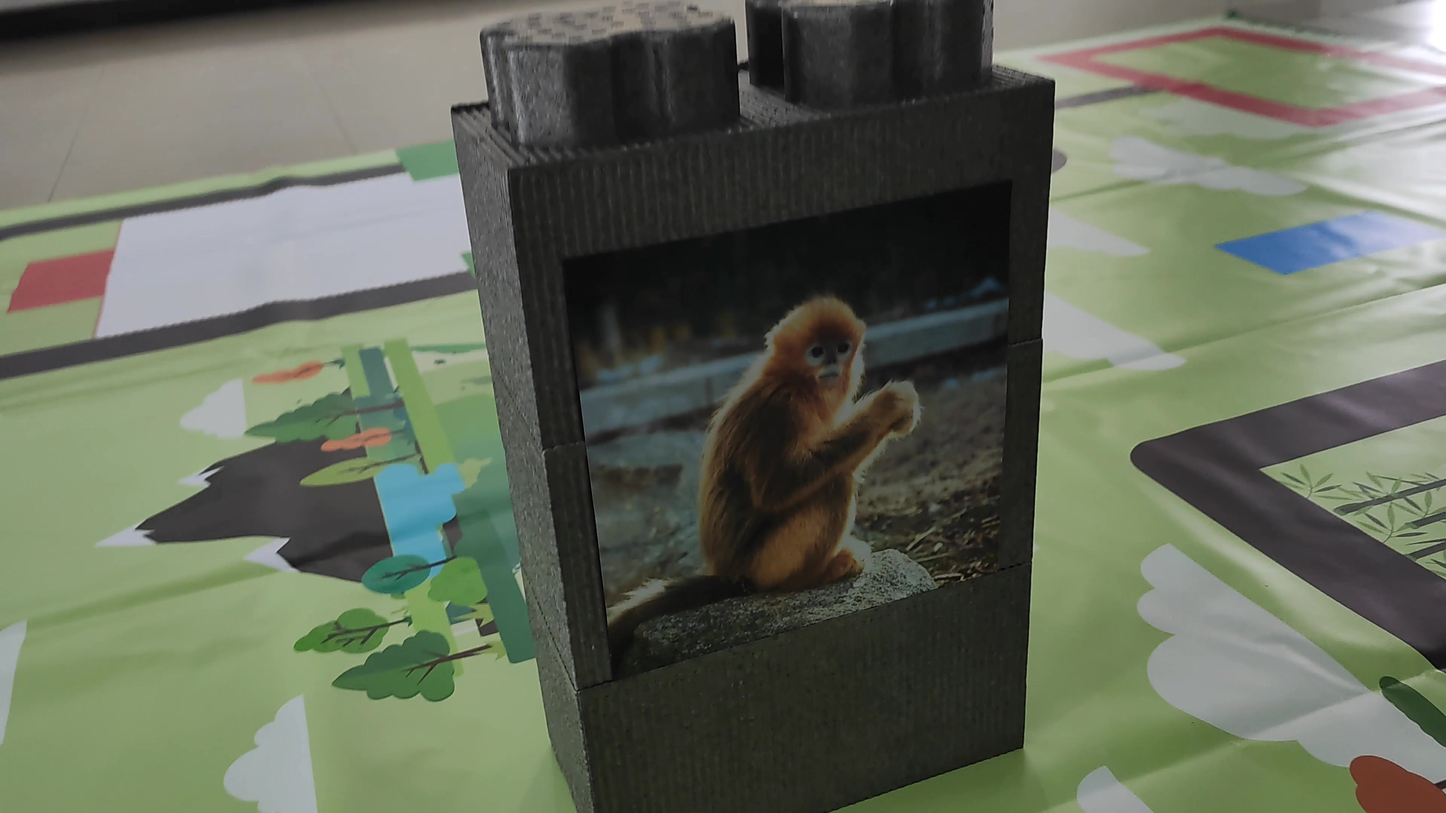monkey: (668, 274, 990, 592)
